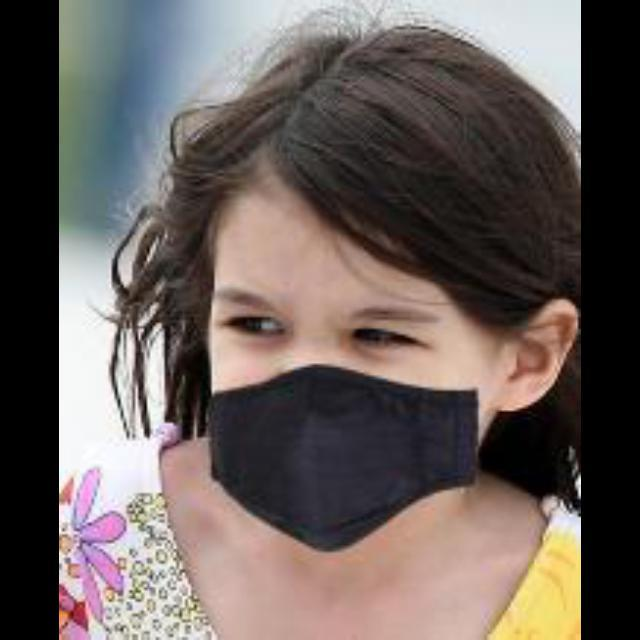suspicion: (176, 112, 524, 524)
